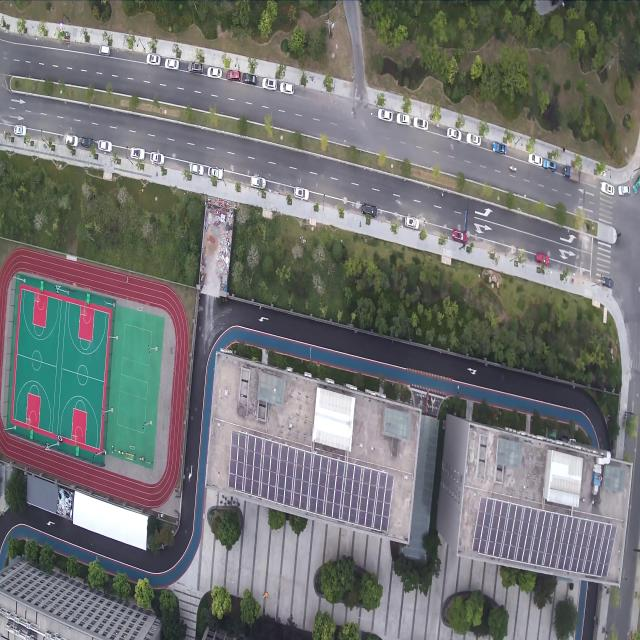UAV: (258, 304, 262, 309)
